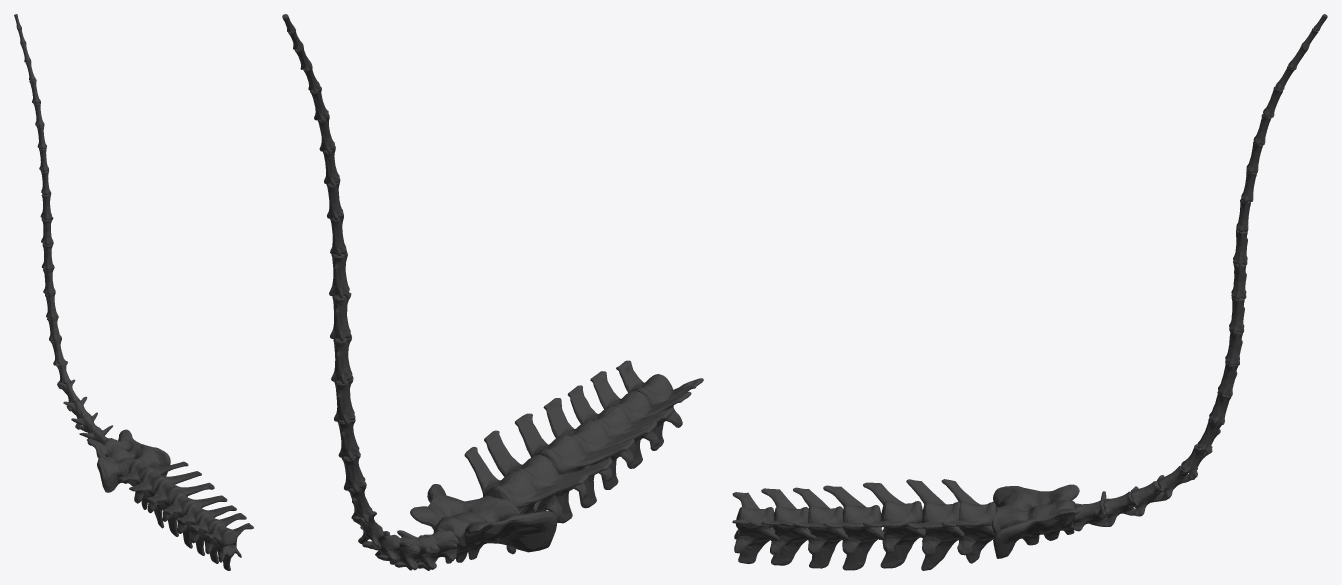
Rendered from b_lumbar_cocc_vertebra.glb.
3 renders of one model, left to right at view 1: azimuth 30°, elevation 25°; view 2: azimuth 150°, elevation 25°; view 3: azimuth 270°, elevation 25°, orthographic. The views are drawn at different scales.
Visible parts, largest first — view 1: b_lumbar_cocc_vertebra; view 2: b_lumbar_cocc_vertebra; view 3: b_lumbar_cocc_vertebra.
Boxes of the visible parts, x1=… form: b_lumbar_cocc_vertebra: x1=14, y1=14, x2=253, y2=570; b_lumbar_cocc_vertebra: x1=282, y1=14, x2=703, y2=570; b_lumbar_cocc_vertebra: x1=732, y1=14, x2=1327, y2=570.
Bounding box in the file's own units: 0.00208 × 0.0116 × 0.0113.
1 material, 1 textured.
